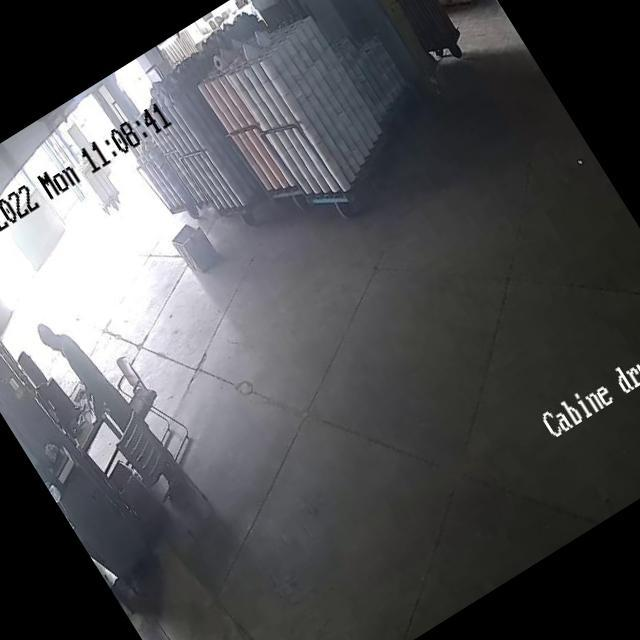person: (29, 304, 127, 428)
